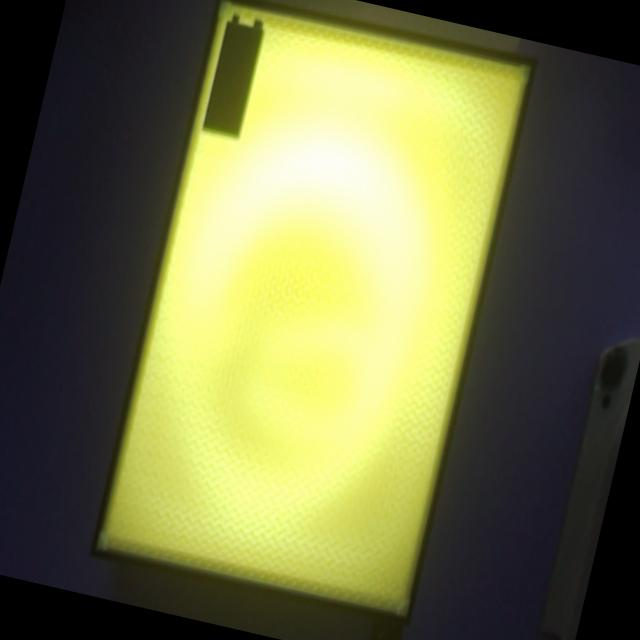Bateria: (202, 21, 264, 138)
Mesa: (89, 0, 538, 625)
Pestana: (231, 13, 239, 22), (253, 19, 262, 27)
